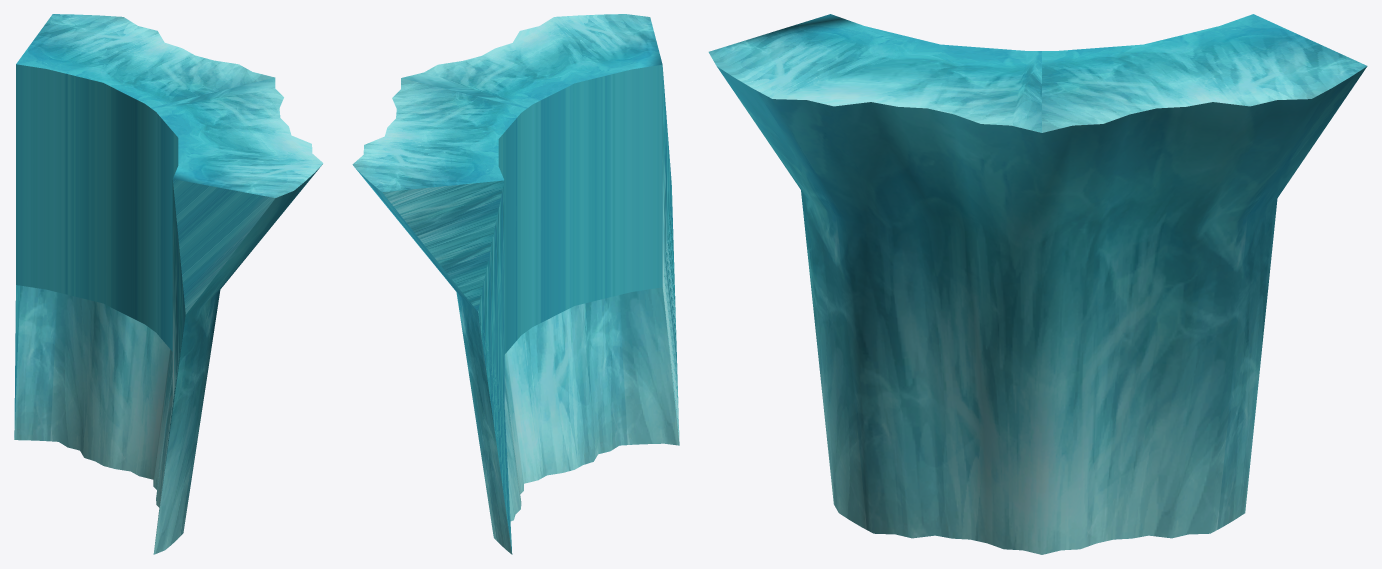
Rendered from ic_arthas_iceshard01.obj.
The picture shows the model from 3 angles, left to right: view 1: azimuth 30°, elevation 25°; view 2: azimuth 150°, elevation 25°; view 3: azimuth 270°, elevation 25°; orthographic projection. The views are drawn at different scales.
Parts seen in each view (by area): view 1: IC_arthas_iceshard01; view 2: IC_arthas_iceshard01; view 3: IC_arthas_iceshard01.
Part boxes in pixels (<box>): IC_arthas_iceshard01: <box>14,14,323,554</box>; IC_arthas_iceshard01: <box>352,14,679,554</box>; IC_arthas_iceshard01: <box>708,14,1367,554</box>.
Bounding box in the file's own units: 46.09 × 82.47 × 98.11.
